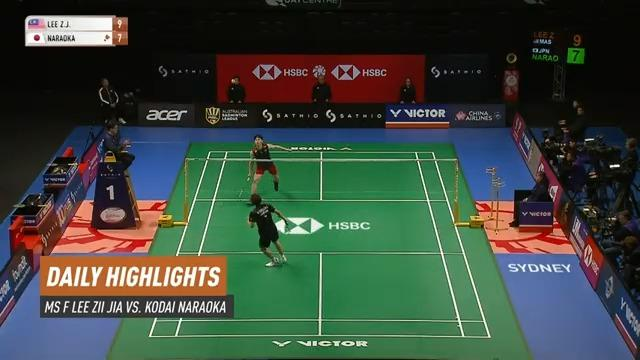Shuttlecock: (229, 74, 237, 84)
